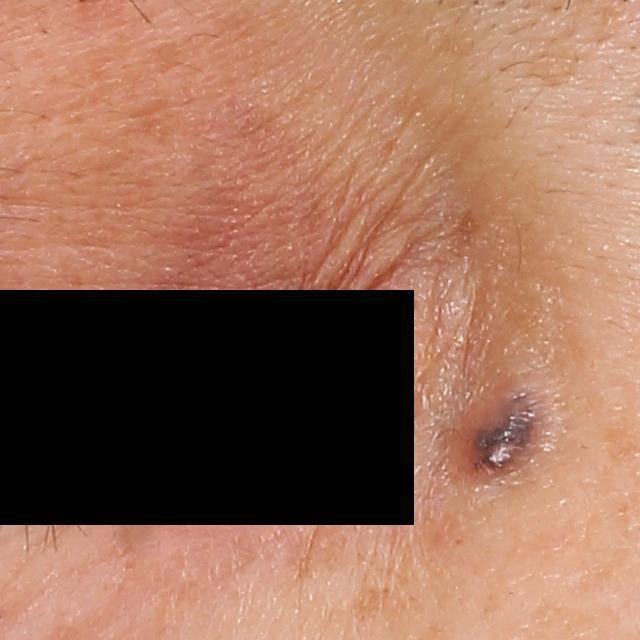melasma: (146, 153, 260, 331), (340, 581, 428, 624), (143, 37, 192, 82)
nevus: (462, 385, 552, 487)
